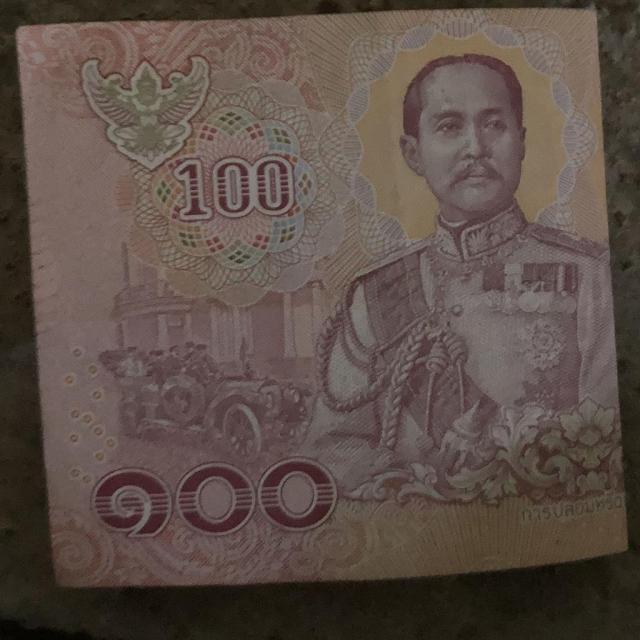THAI100: (17, 9, 626, 587)
